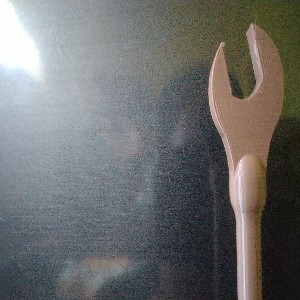spanner: (207, 23, 286, 300)
